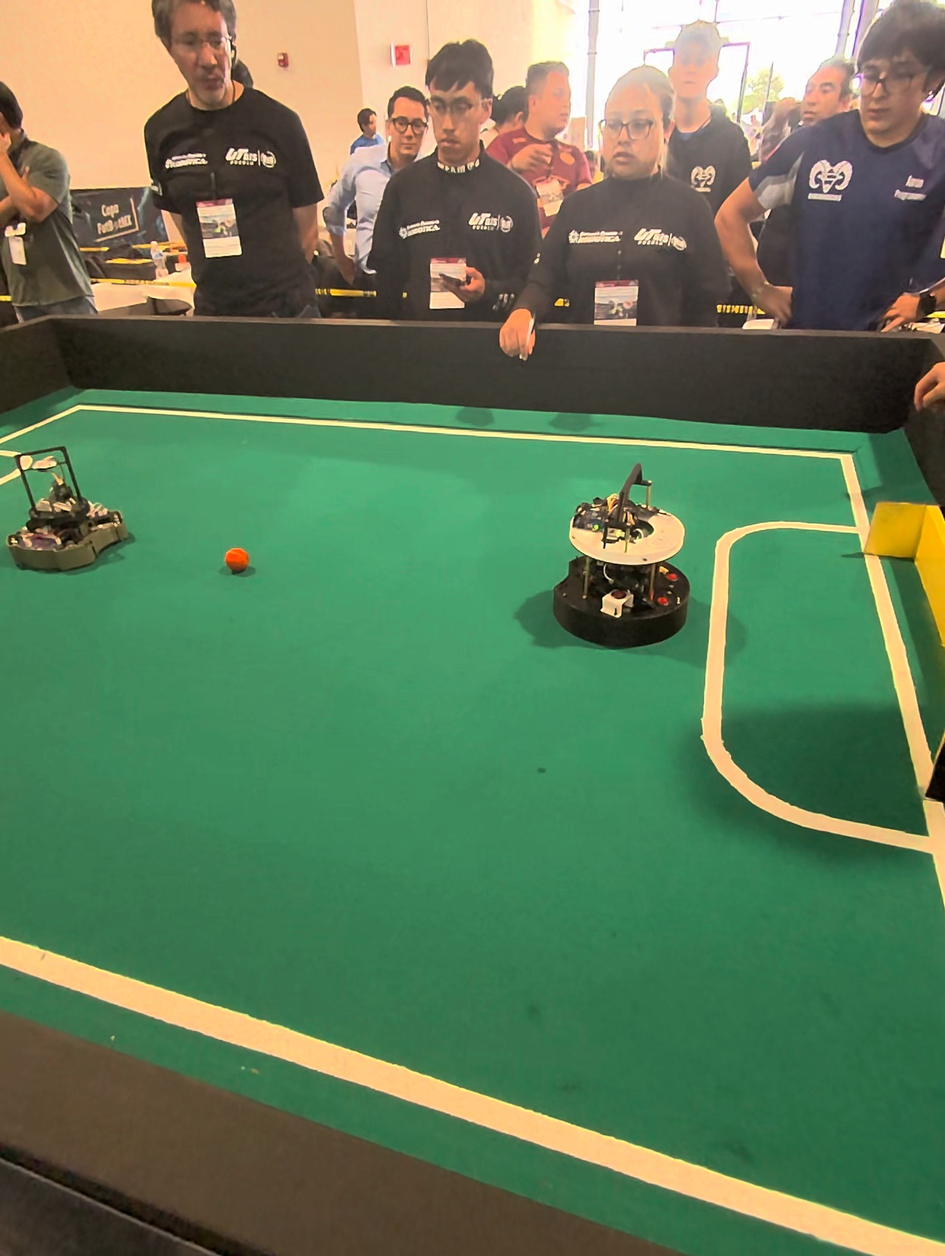Robot: (553, 457, 695, 652), (1, 441, 131, 581)
pelota: (213, 547, 260, 584)
